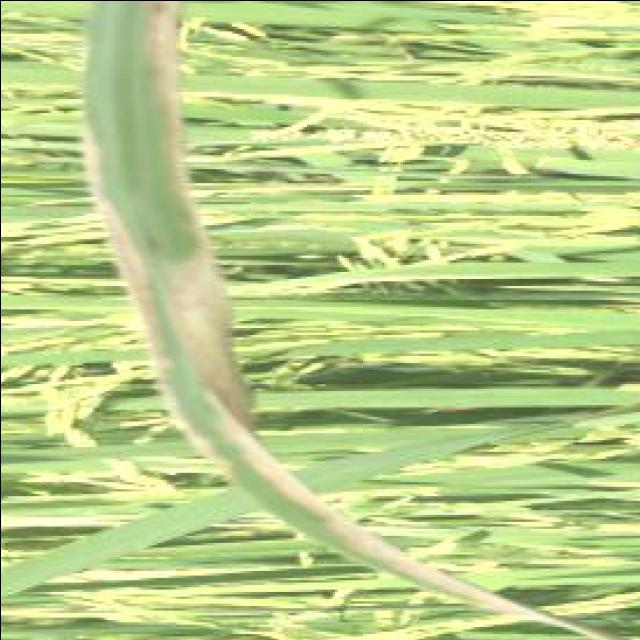Bacterial_Leaf_Blight: (77, 0, 208, 381)
